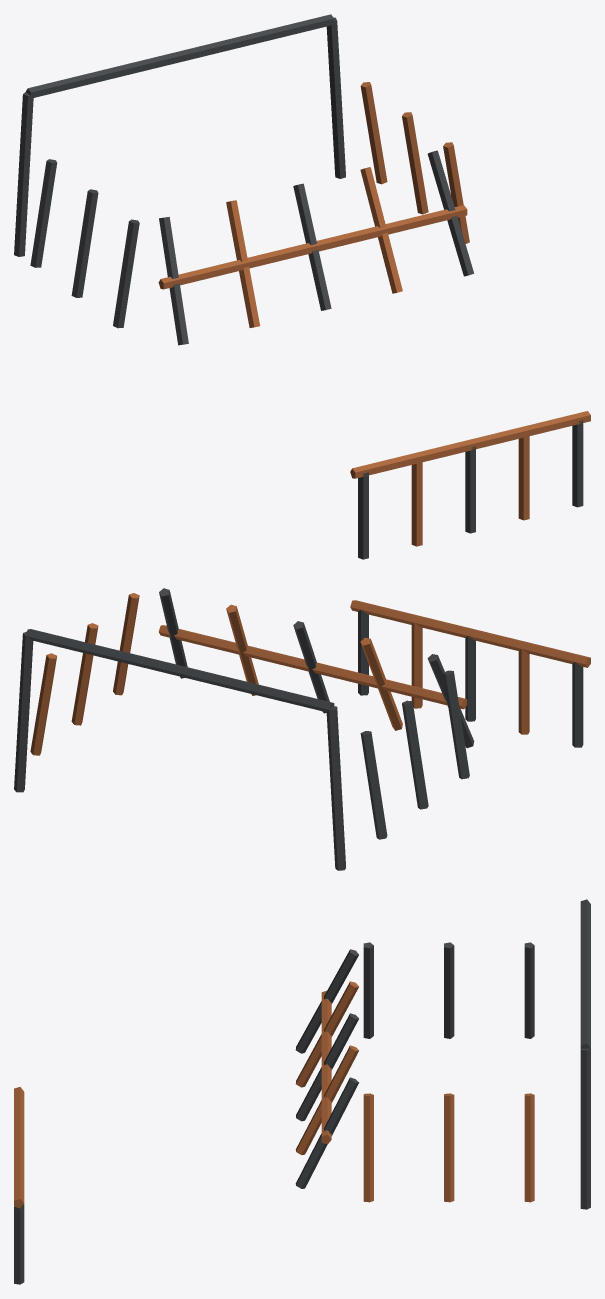
Rendered from upg_cage_t4.glb.
3 renders of one model, top to bottom at view 1: azimuth 30°, elevation 25°; view 2: azimuth 150°, elevation 25°; view 3: azimuth 270°, elevation 25°, orthographic. The views are drawn at different scales.
Parts seen in each view (by area): view 1: cage; view 2: cage; view 3: cage.
Boxes of the visible parts, bbox=[...] form: cage: bbox=[14, 14, 590, 559]; cage: bbox=[14, 588, 590, 870]; cage: bbox=[14, 899, 590, 1284].
Bounding box in the file's own units: 1.99 × 1.43 × 2.87.
